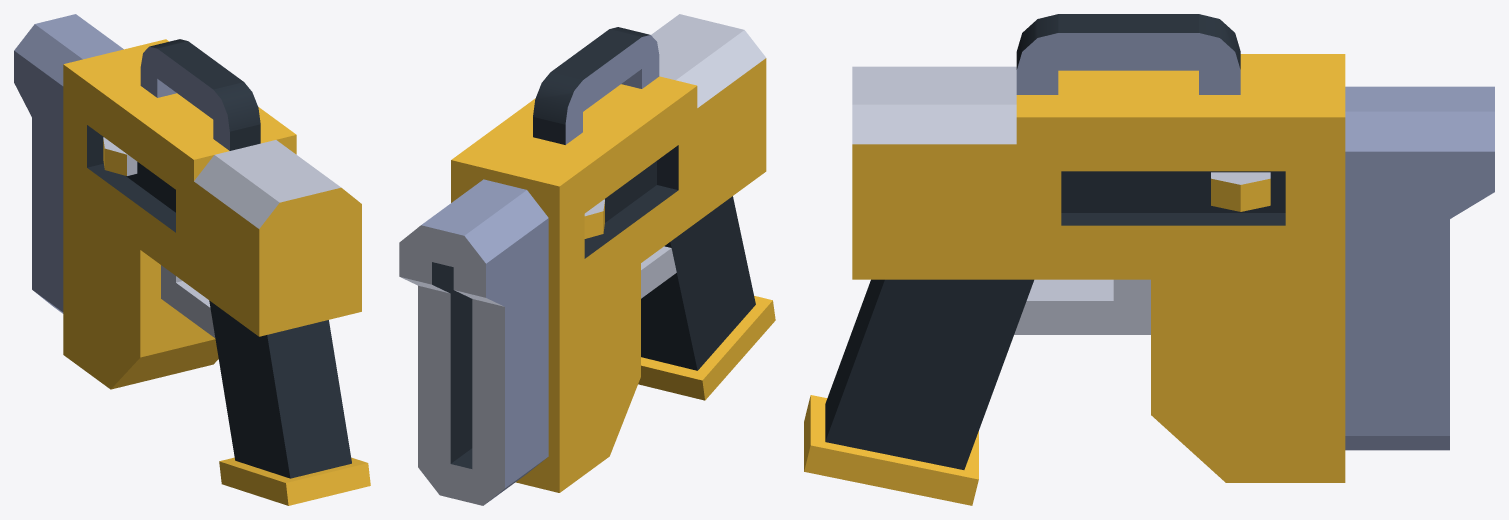
The model's file is blasterK.dae.
The picture shows the model from 3 angles, left to right: view 1: azimuth 30°, elevation 25°; view 2: azimuth 150°, elevation 25°; view 3: azimuth 270°, elevation 25°; orthographic projection. The views are drawn at different scales.
Visible parts, largest first — view 1: blasterK; view 2: blasterK; view 3: blasterK.
Part boxes in pixels (box(x1,y1,x2,y2)): blasterK: box(14, 14, 370, 505); blasterK: box(399, 14, 775, 505); blasterK: box(804, 14, 1494, 505).
Bounding box in the file's own units: 0.1 × 0.3376 × 0.4622.
